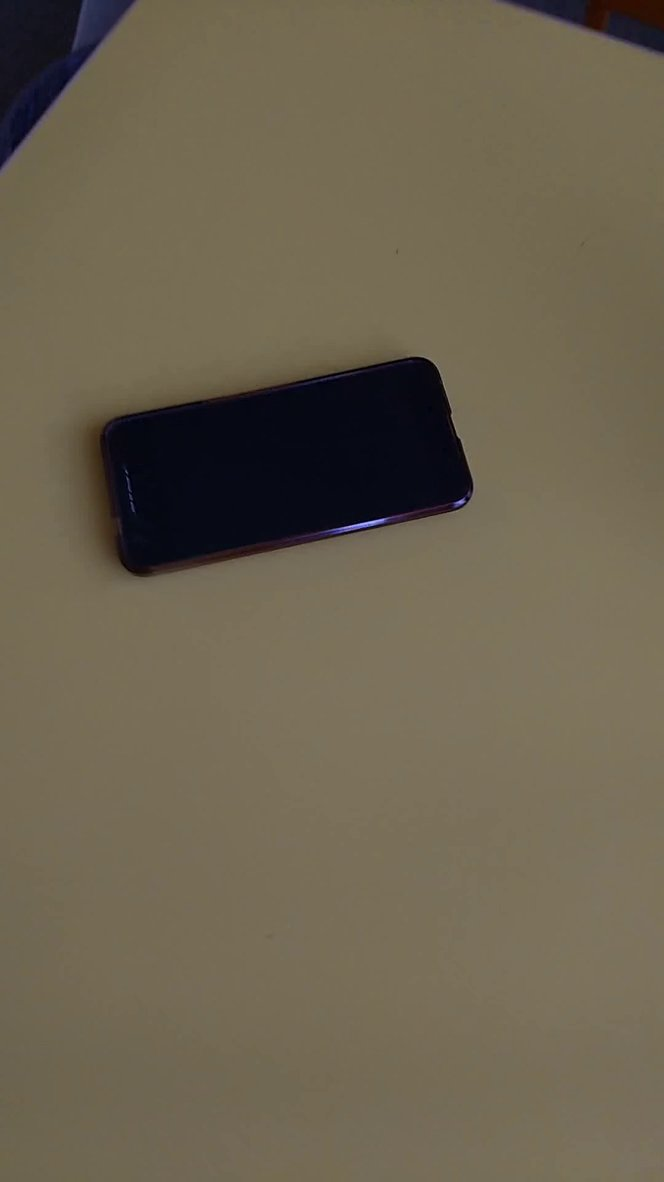phone: (90, 342, 488, 597)
